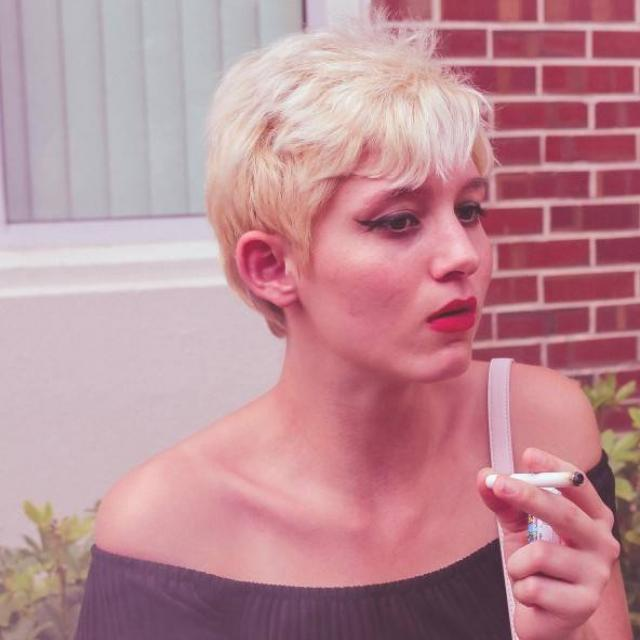smoking: (469, 456, 588, 501)
